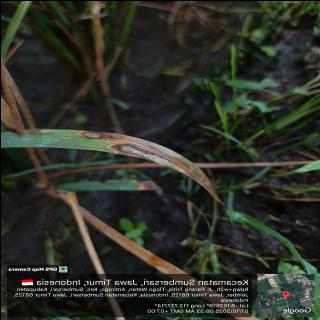Blast: (116, 144, 195, 178), (80, 131, 101, 138)
